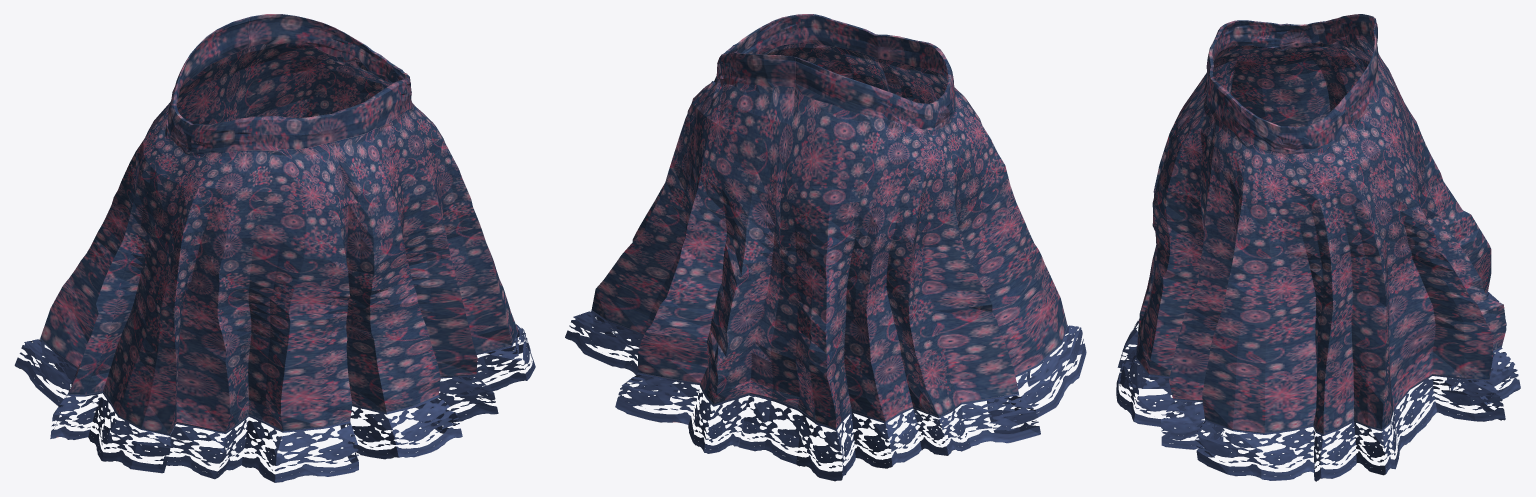
File: mhw_toigo_skirt_with_lace_ruffle.glb
The picture shows the model from 3 angles, left to right: view 1: azimuth 30°, elevation 25°; view 2: azimuth 150°, elevation 25°; view 3: azimuth 270°, elevation 25°; orthographic projection. The views are drawn at different scales.
Parts seen in each view (by area): view 1: mhw_toigo_skirt_with_lace_ruffle; view 2: mhw_toigo_skirt_with_lace_ruffle; view 3: mhw_toigo_skirt_with_lace_ruffle.
Boxes of the visible parts, box(x1,y1,x2,y2) form: mhw_toigo_skirt_with_lace_ruffle: box(14, 14, 535, 482); mhw_toigo_skirt_with_lace_ruffle: box(565, 14, 1086, 481); mhw_toigo_skirt_with_lace_ruffle: box(1116, 14, 1520, 481).
Size of the model in its own units: 0.6279 by 0.4912 by 0.4896.
Materials: 1 (1 with a texture image).
